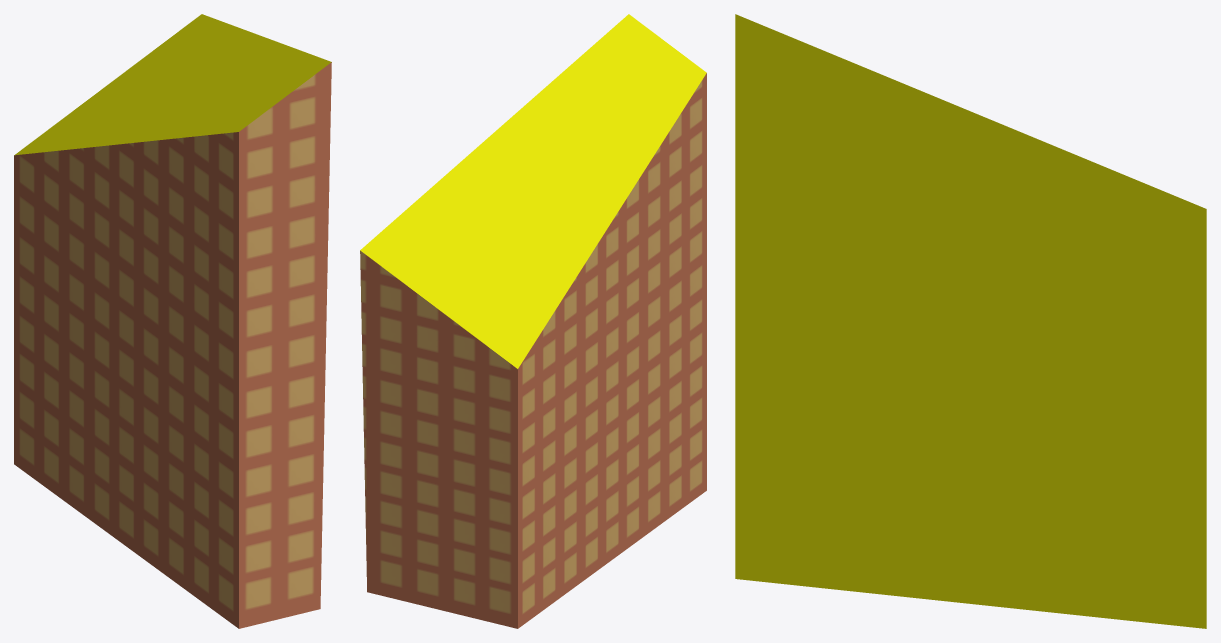
Rendered from stShard3.fbx.
3 views of the same model, side by side, from view 1: azimuth 30°, elevation 25°; view 2: azimuth 150°, elevation 25°; view 3: azimuth 270°, elevation 25° (orthographic). The views are drawn at different scales.
Visible parts, largest first — view 1: shard28; view 2: shard28; view 3: shard28.
Part boxes in pixels (<box>): shard28: <box>14,14,331,628</box>; shard28: <box>360,14,706,628</box>; shard28: <box>735,14,1206,628</box>.
Bounding box in the file's own units: 0.0853 × 0.2365 × 0.1771.
Materials: 2 (1 with a texture image).
